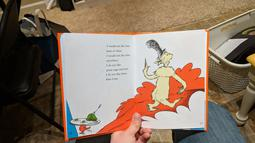text block: (101, 41, 133, 85)
